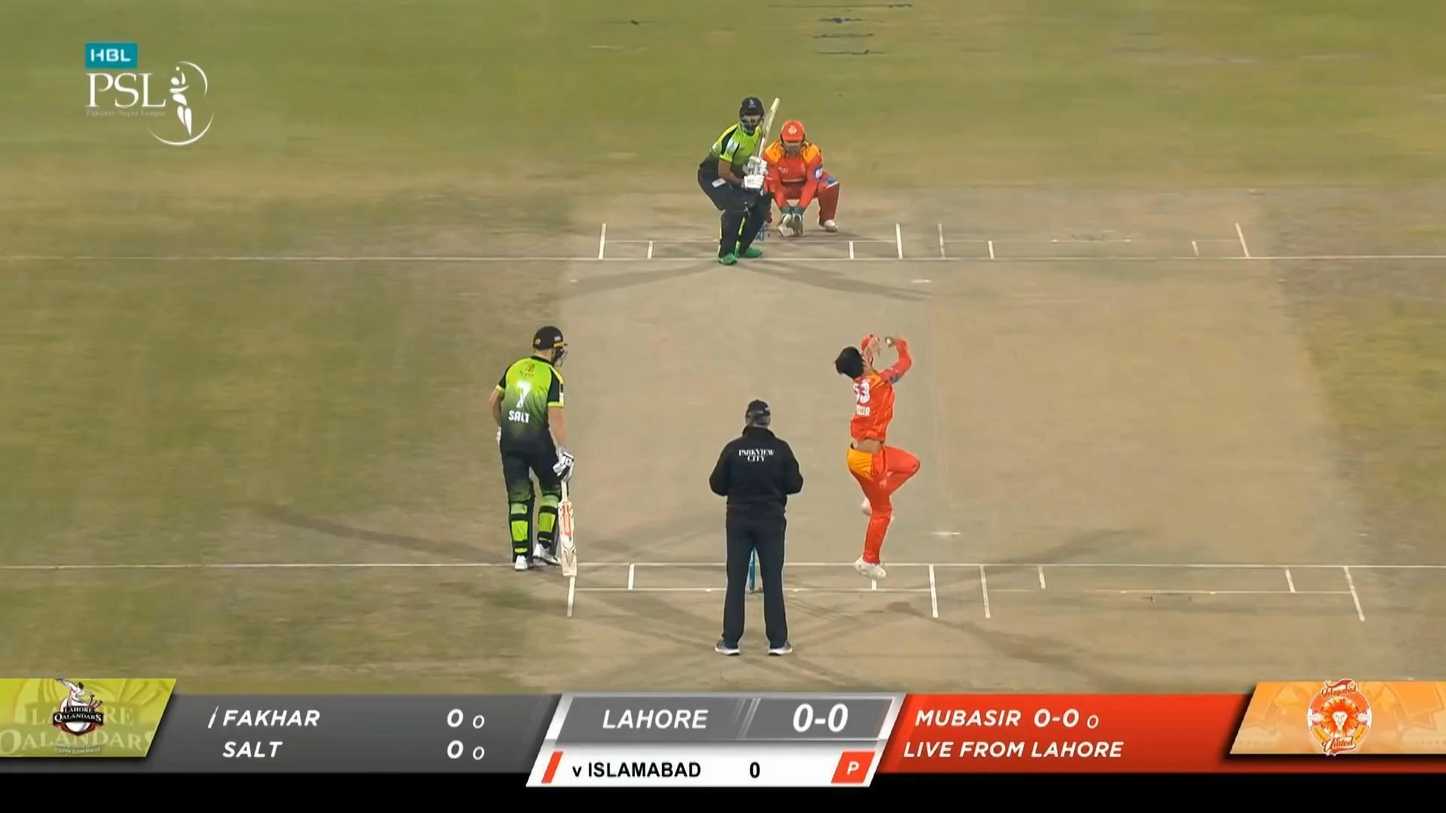BM 1: (697, 96, 780, 266)
BO: (833, 330, 923, 580)
